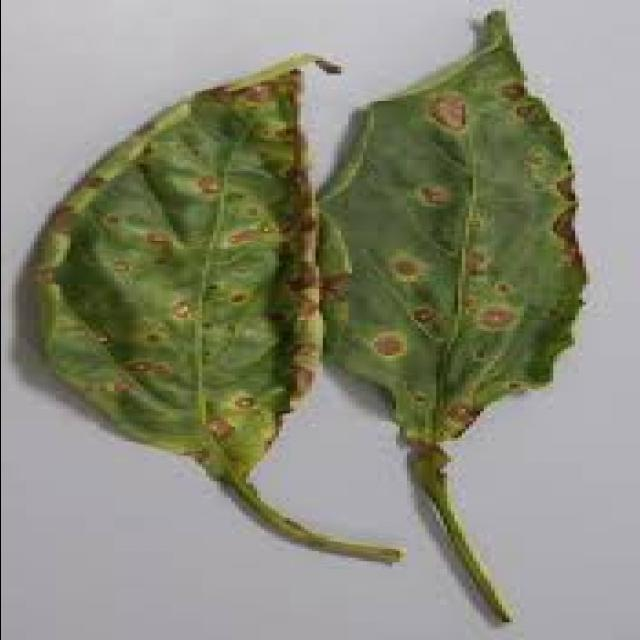bercak_daun: (18, 67, 341, 480), (328, 32, 592, 452)
